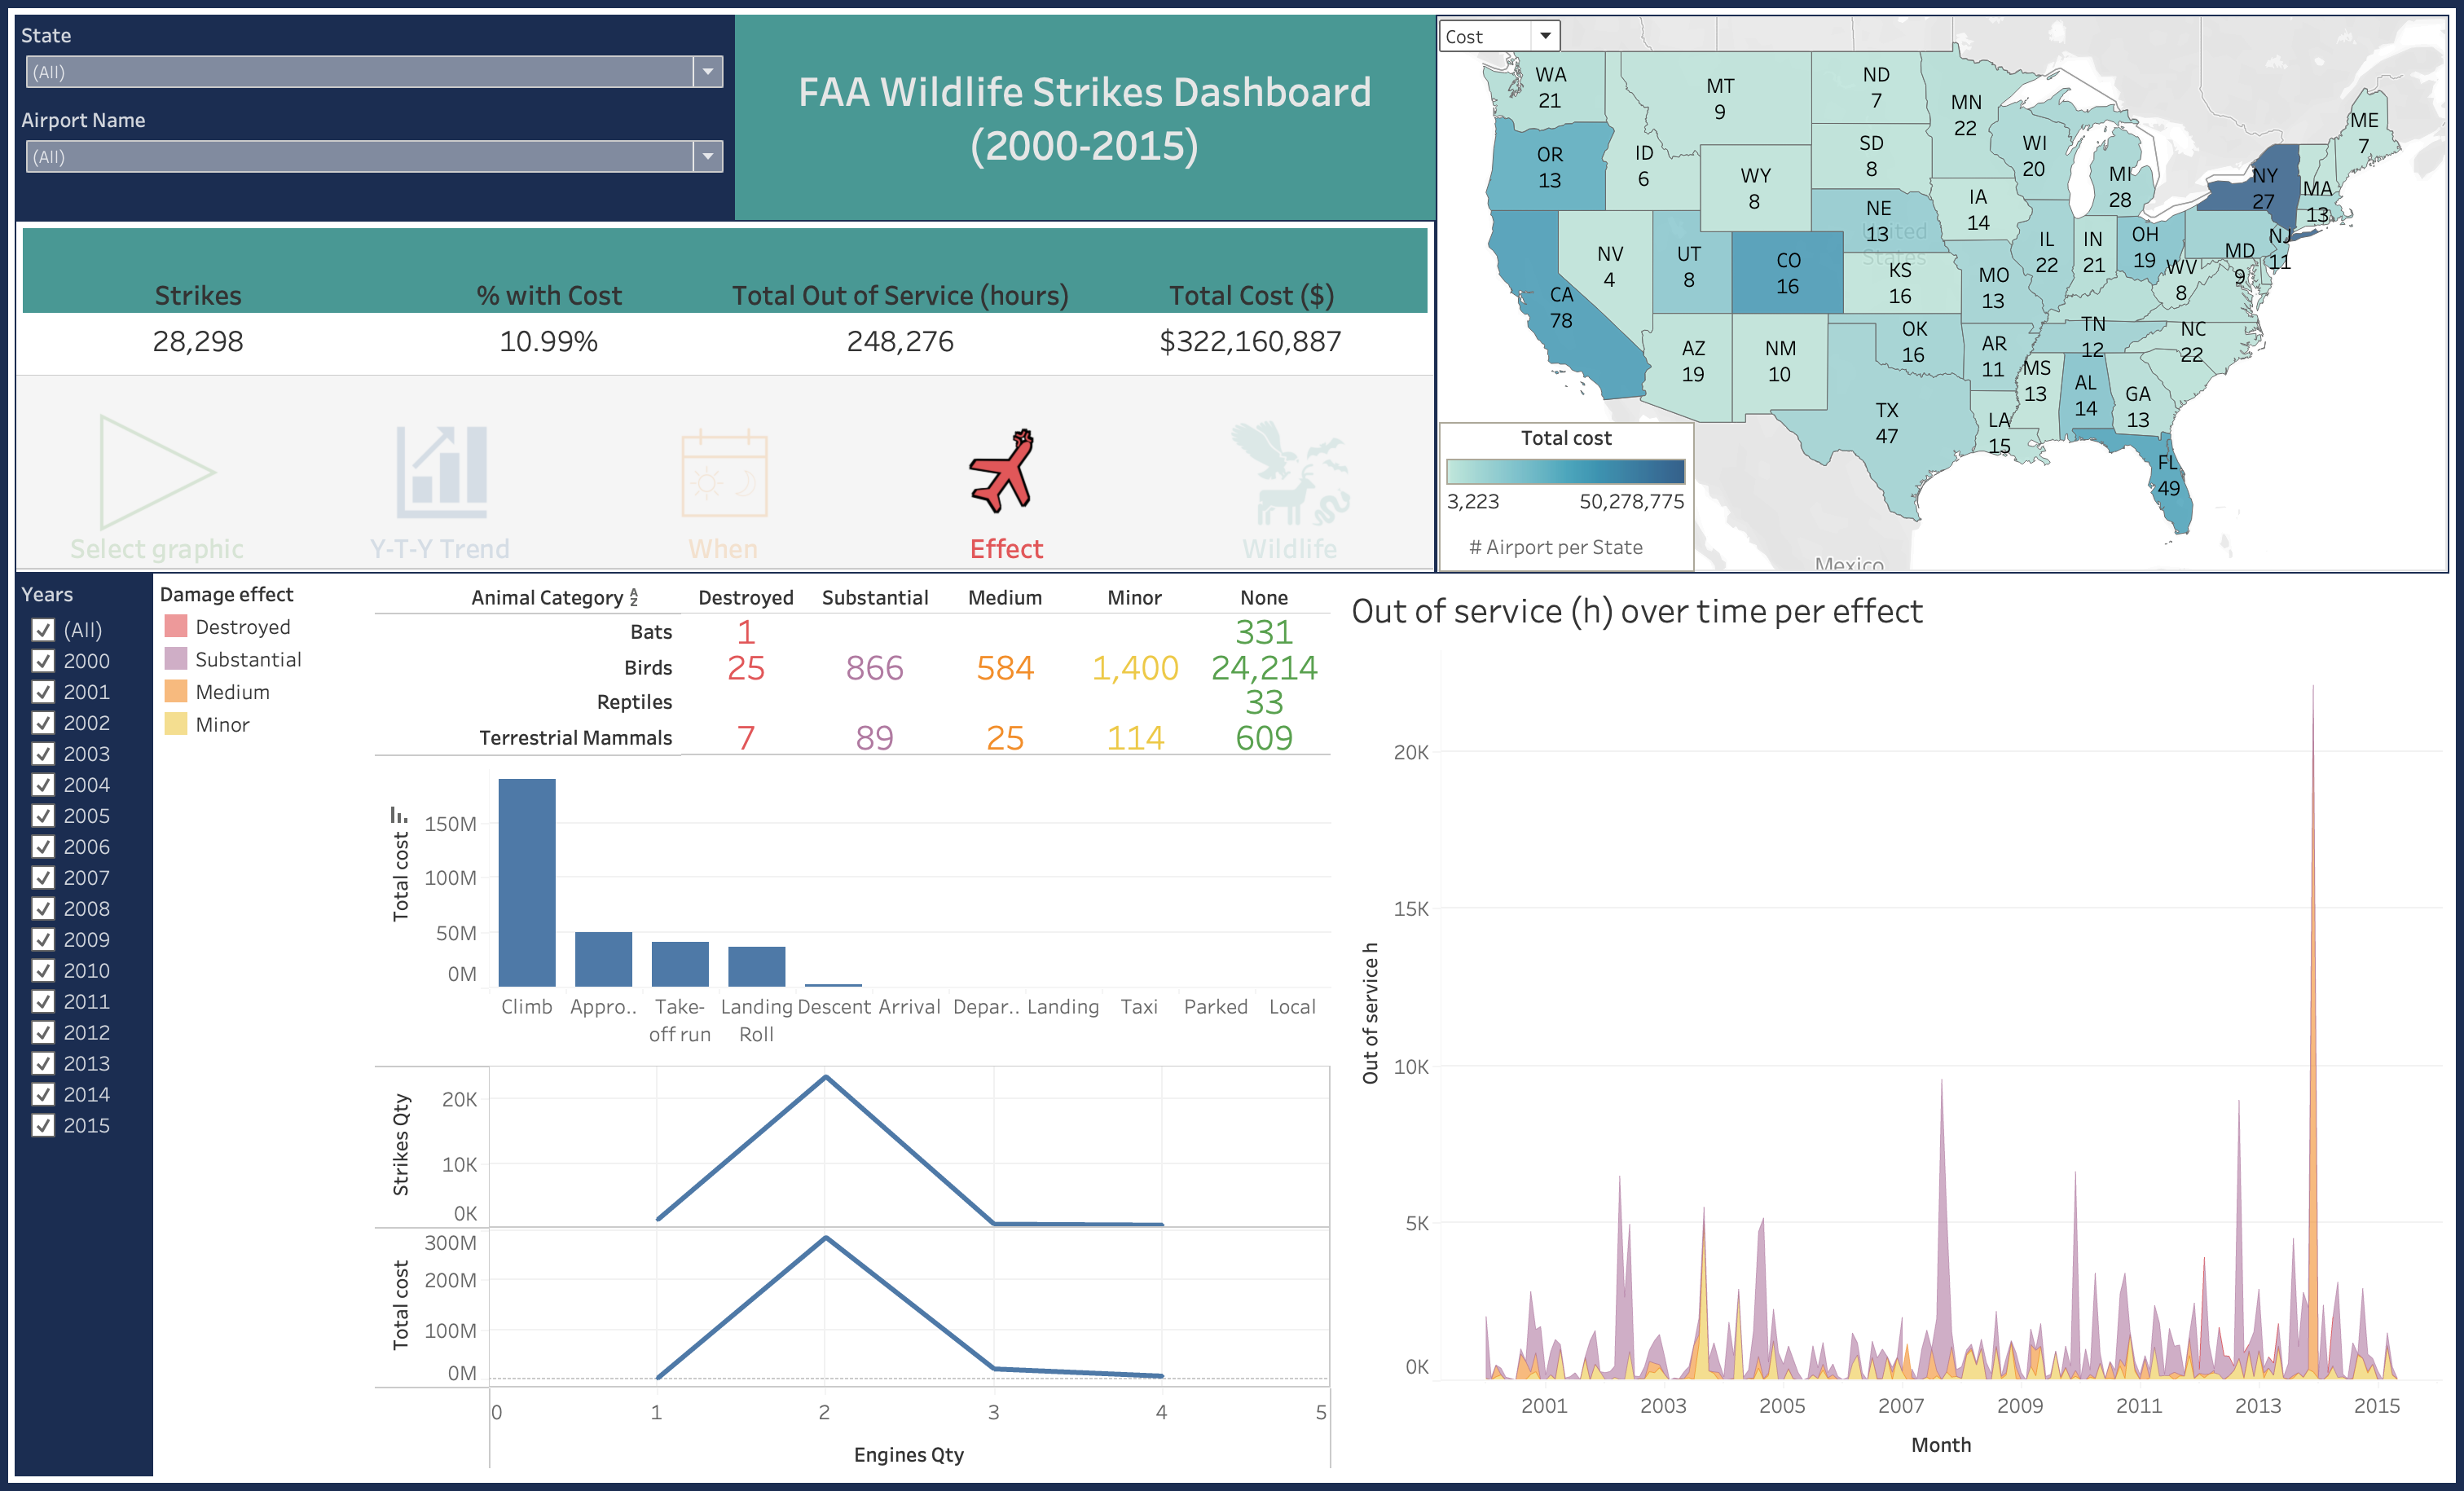

Layout of this report page (visuals, bound fields, positions):
{"tool":"tableau","page":{"name":"FAA Dashboard","canvas":[1000,1000],"units":"permille","ordinal":2},"visuals":[{"type":"worksheet","title":"Cost of damage per qty of airport","mark":"Automatic","box":[583.4,10.9,410,372.8]},{"type":"filter","title":"Metrics","param":"[federated.05t35c50m0xzt915gz8fk0yyn7wb].[none:State:nk]","box":[6.9,11.5,291.8,66.5]},{"type":"text","box":[298.7,11.5,283.8,137.3]},{"type":"parameter","param":"[Parameters].[Parameter 1]","box":[581.9,11.5,53.8,25.6]},{"type":"worksheet","title":"Strikes per State","mark":"Automatic","box":[583.2,12.8,409.1,371.1]},{"type":"filter","title":"Metrics","param":"[federated.05t35c50m0xzt915gz8fk0yyn7wb].[none:Airport_Name:nk]","box":[6.9,78,291.8,66.5]},{"type":"worksheet","title":"Metrics","mark":"Automatic","box":[7.7,150.1,574,120.2]},{"type":"worksheet","title":"Graphic selection","mark":"Shape","cols":["Categories"],"box":[7.7,270.3,574,113.6]},{"type":"legend","title":"Strikes per State","param":"[federated.05t35c50m0xzt915gz8fk0yyn7wb].[sum:Strikes_Qty:qk]","box":[584.2,282.6,103.8,101]},{"type":"legend","title":"Cost of damage per qty of airport","param":"[federated.05t35c50m0xzt915gz8fk0yyn7wb].[sum:Total_cost:qk]","box":[584.2,282.6,103.8,101]},{"type":"text","box":[594.4,346.4,82.7,39.1]},{"type":"text","box":[63,384.9,930.1,603.6]},{"type":"legend","title":"Cost per species","param":"[federated.05t35c50m0xzt915gz8fk0yyn7wb].[sum:Strikes_Qty:qk]","box":[63,384.9,129.1,83.1]},{"type":"worksheet","title":"Strikes over time","mark":"Automatic","rows":["Animal_Category","Strikes_Qty"],"cols":["Collision_DateTime"],"box":[63,384.9,465,603.6]},{"type":"worksheet","title":"Frequency per State","mark":"Automatic","rows":["Strikes_Qty"],"cols":["State_Code","Time_of_day"],"box":[63,384.9,635.7,603.6]},{"type":"legend","title":"Out of service hours","param":"[federated.05t35c50m0xzt915gz8fk0yyn7wb].[none:Damage_effect:nk]","box":[63,384.9,101.5,603.6]},{"type":"worksheet","title":"Distribution of effect per category","mark":"Automatic","rows":["Animal_Category"],"cols":["Damage_effect"],"box":[164.5,384.9,457.3,148.3]},{"type":"worksheet","title":"Cost per species","mark":"Automatic","rows":["Animal_Category","Species_Order","Species_Group","Species"],"cols":["Time_of_day"],"box":[192.2,384.9,538,603.6]},{"type":"worksheet","title":"Cost over time","mark":"Automatic","rows":["Animal_Category","Total_cost"],"cols":["Collision_DateTime"],"box":[528.1,384.9,465,603.6]},{"type":"worksheet","title":"Out of service hours","mark":"Area","rows":["Out_of_service_h"],"cols":["Collision_DateTime"],"box":[621.8,384.9,371.2,603.6]},{"type":"worksheet","title":"Cost per time of day","mark":"Automatic","rows":["Time_of_day","Total_cost"],"cols":["Damage_effect"],"box":[698.7,384.9,294.4,603.6]},{"type":"web page","param":"https://science.ebird.org/en/status-and-trends/species?_gl=1%2a1fiazpz%2a_ga%2aM","box":[730.2,384.9,262.9,603.6]},{"type":"filter","title":"Metrics","param":"[federated.05t35c50m0xzt915gz8fk0yyn7wb].[yr:Collision_DateTime:ok]","box":[6.9,385.2,55.9,454]},{"type":"legend","title":"Cost per species","param":"[federated.05t35c50m0xzt915gz8fk0yyn7wb].[sum:Total_cost:qk]","box":[63,468,129.1,135.6]},{"type":"worksheet","title":"Cost per phase of flight","mark":"Automatic","rows":["Total_cost"],"cols":["Phase_of_flight"],"box":[164.5,533.2,457.3,232.7]},{"type":"worksheet","title":"Engine effect","mark":"Automatic","rows":["Strikes_Qty","Total_cost"],"cols":["Engines_Qty"],"box":[164.5,766,457.3,222.5]}]}

Visuals, with their boxes on the dashboard's canvas, which has no fixed pixel size, in thousandths of its width and height (x1, y1, x2, y2). These are canvas units, not pixel positions in the 2464x1491 screenshot, which may show the page scaled, cropped or inside an application window:
"Cost of damage per qty of airport" worksheet: [x1=583, y1=11, x2=993, y2=384]
"Metrics" filter: [x1=7, y1=12, x2=299, y2=78]
text: [x1=299, y1=12, x2=582, y2=149]
parameter: [x1=582, y1=12, x2=636, y2=37]
"Strikes per State" worksheet: [x1=583, y1=13, x2=992, y2=384]
"Metrics" filter: [x1=7, y1=78, x2=299, y2=144]
"Metrics" worksheet: [x1=8, y1=150, x2=582, y2=270]
"Graphic selection" worksheet (Shape marks): [x1=8, y1=270, x2=582, y2=384]
"Strikes per State" legend: [x1=584, y1=283, x2=688, y2=384]
"Cost of damage per qty of airport" legend: [x1=584, y1=283, x2=688, y2=384]
text: [x1=594, y1=346, x2=677, y2=386]
text: [x1=63, y1=385, x2=993, y2=988]
"Cost per species" legend: [x1=63, y1=385, x2=192, y2=468]
"Strikes over time" worksheet: [x1=63, y1=385, x2=528, y2=988]
"Frequency per State" worksheet: [x1=63, y1=385, x2=699, y2=988]
"Out of service hours" legend: [x1=63, y1=385, x2=164, y2=988]
"Distribution of effect per category" worksheet: [x1=164, y1=385, x2=622, y2=533]
"Cost per species" worksheet: [x1=192, y1=385, x2=730, y2=988]
"Cost over time" worksheet: [x1=528, y1=385, x2=993, y2=988]
"Out of service hours" worksheet (Area marks): [x1=622, y1=385, x2=993, y2=988]
"Cost per time of day" worksheet: [x1=699, y1=385, x2=993, y2=988]
web page: [x1=730, y1=385, x2=993, y2=988]
"Metrics" filter: [x1=7, y1=385, x2=63, y2=839]
"Cost per species" legend: [x1=63, y1=468, x2=192, y2=604]
"Cost per phase of flight" worksheet: [x1=164, y1=533, x2=622, y2=766]
"Engine effect" worksheet: [x1=164, y1=766, x2=622, y2=988]
